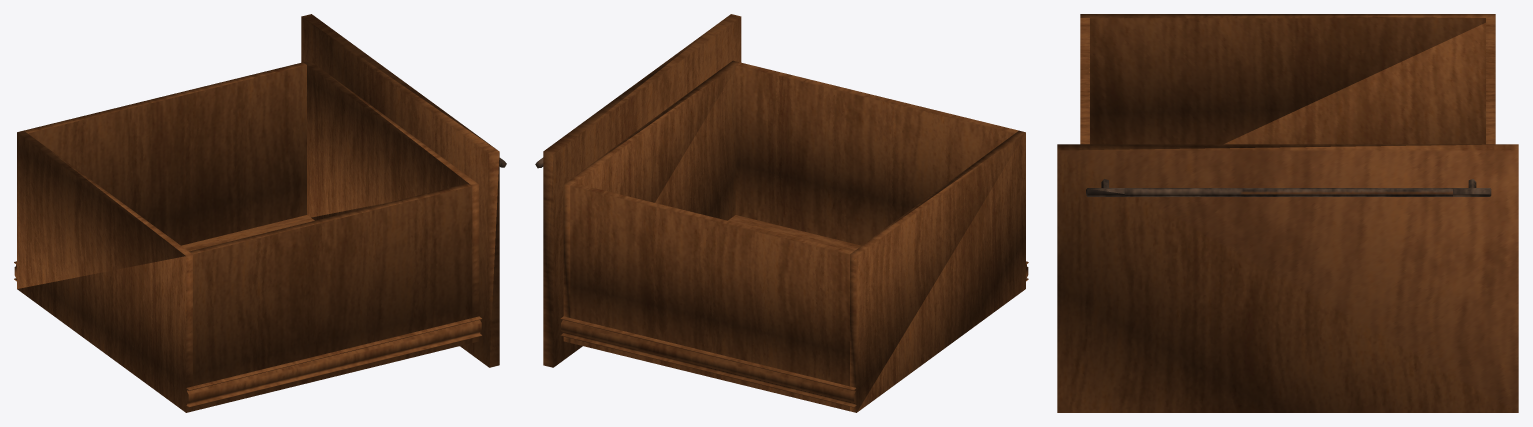
3 renders of one model, left to right at view 1: azimuth 30°, elevation 25°; view 2: azimuth 150°, elevation 25°; view 3: azimuth 270°, elevation 25°, orthographic. The views are drawn at different scales.
Parts seen in each view (by area): view 1: visuals.002; view 2: visuals.002; view 3: visuals.002.
Boxes of the visible parts, bbox=[...] form: visuals.002: bbox=[14, 14, 506, 412]; visuals.002: bbox=[535, 14, 1028, 412]; visuals.002: bbox=[1057, 14, 1518, 412].
Size of the model in its own units: 0.4261 by 0.269 by 0.4283.
1 material, 1 textured.
